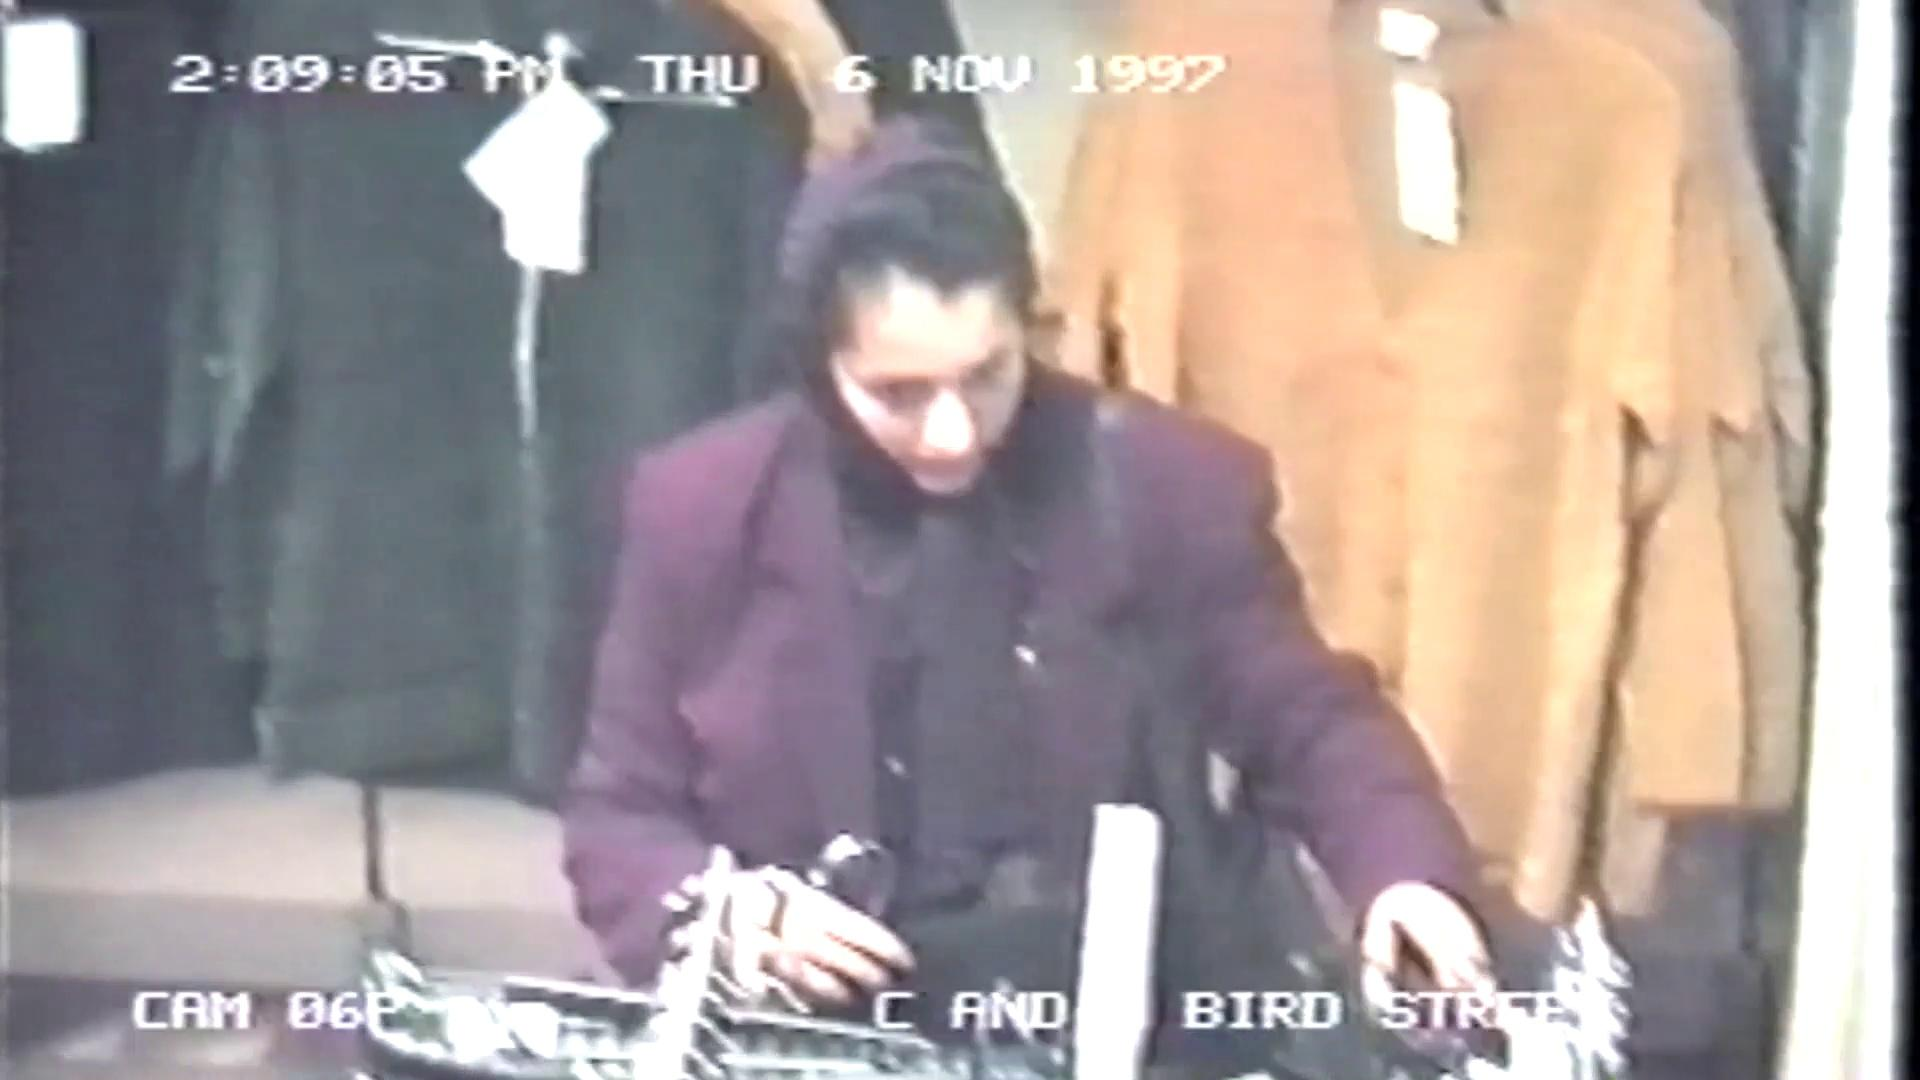1: (777, 880, 1072, 1027)
2: (419, 0, 1600, 1080)
persone: (1137, 836, 1323, 1077)
